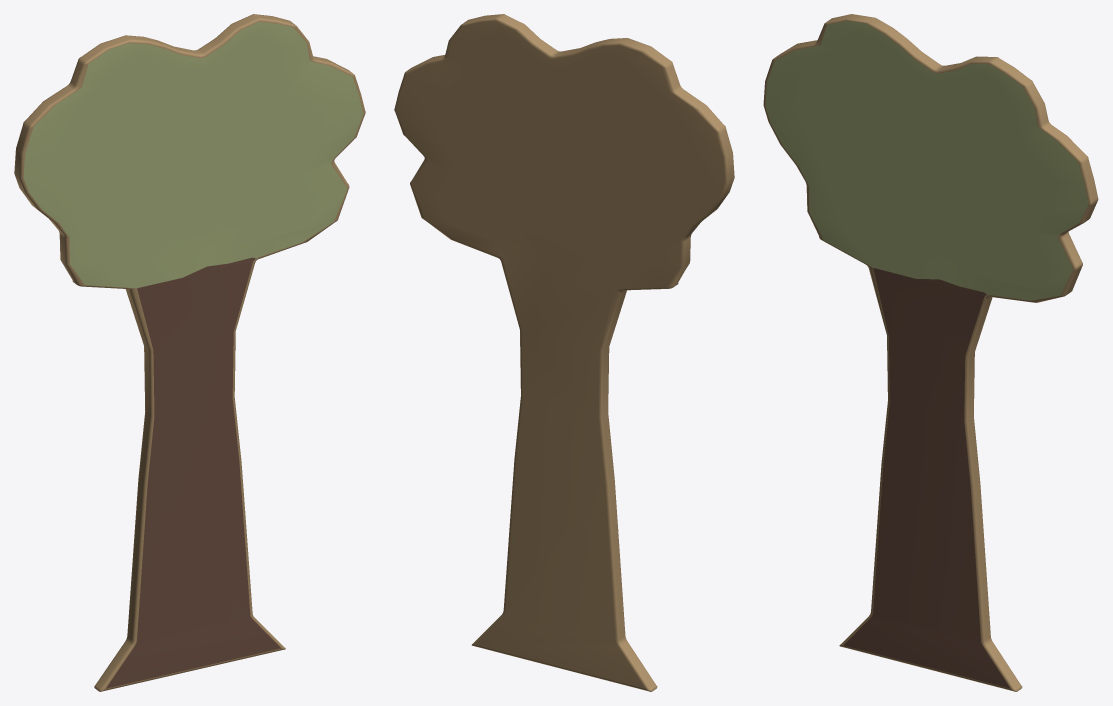
File: Baum.fbx
3 renders of one model, left to right at view 1: azimuth 30°, elevation 25°; view 2: azimuth 150°, elevation 25°; view 3: azimuth 330°, elevation 25°, orthographic. The views are drawn at different scales.
Parts seen in each view (by area): view 1: Baum; view 2: Baum; view 3: Baum.
Boxes of the visible parts, bbox=[...] form: Baum: bbox=[14, 14, 365, 691]; Baum: bbox=[394, 14, 734, 691]; Baum: bbox=[763, 14, 1098, 691].
Size of the model in its own units: 124 by 225 by 7.94.
